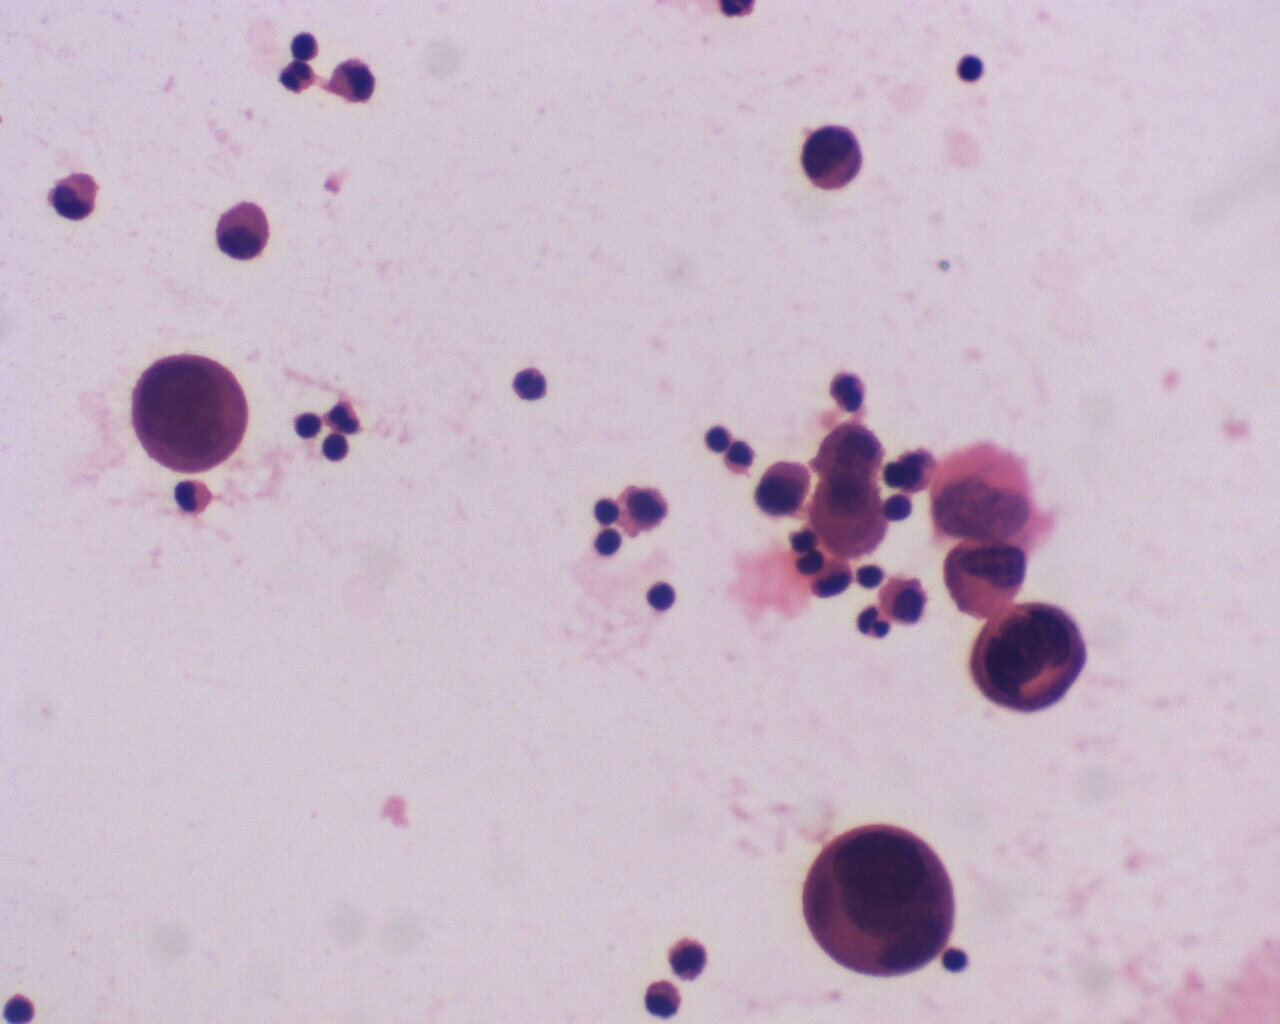ab: (802, 821, 959, 978), (127, 355, 254, 475), (971, 601, 1088, 719), (940, 534, 1029, 619), (801, 122, 865, 193), (753, 458, 813, 523)
lymph: (938, 945, 977, 981), (646, 580, 678, 614), (954, 51, 987, 84), (290, 409, 325, 440), (594, 526, 624, 559)
meso: (212, 196, 274, 263)
neutro: (850, 601, 893, 647), (276, 56, 315, 98), (511, 365, 548, 404)
